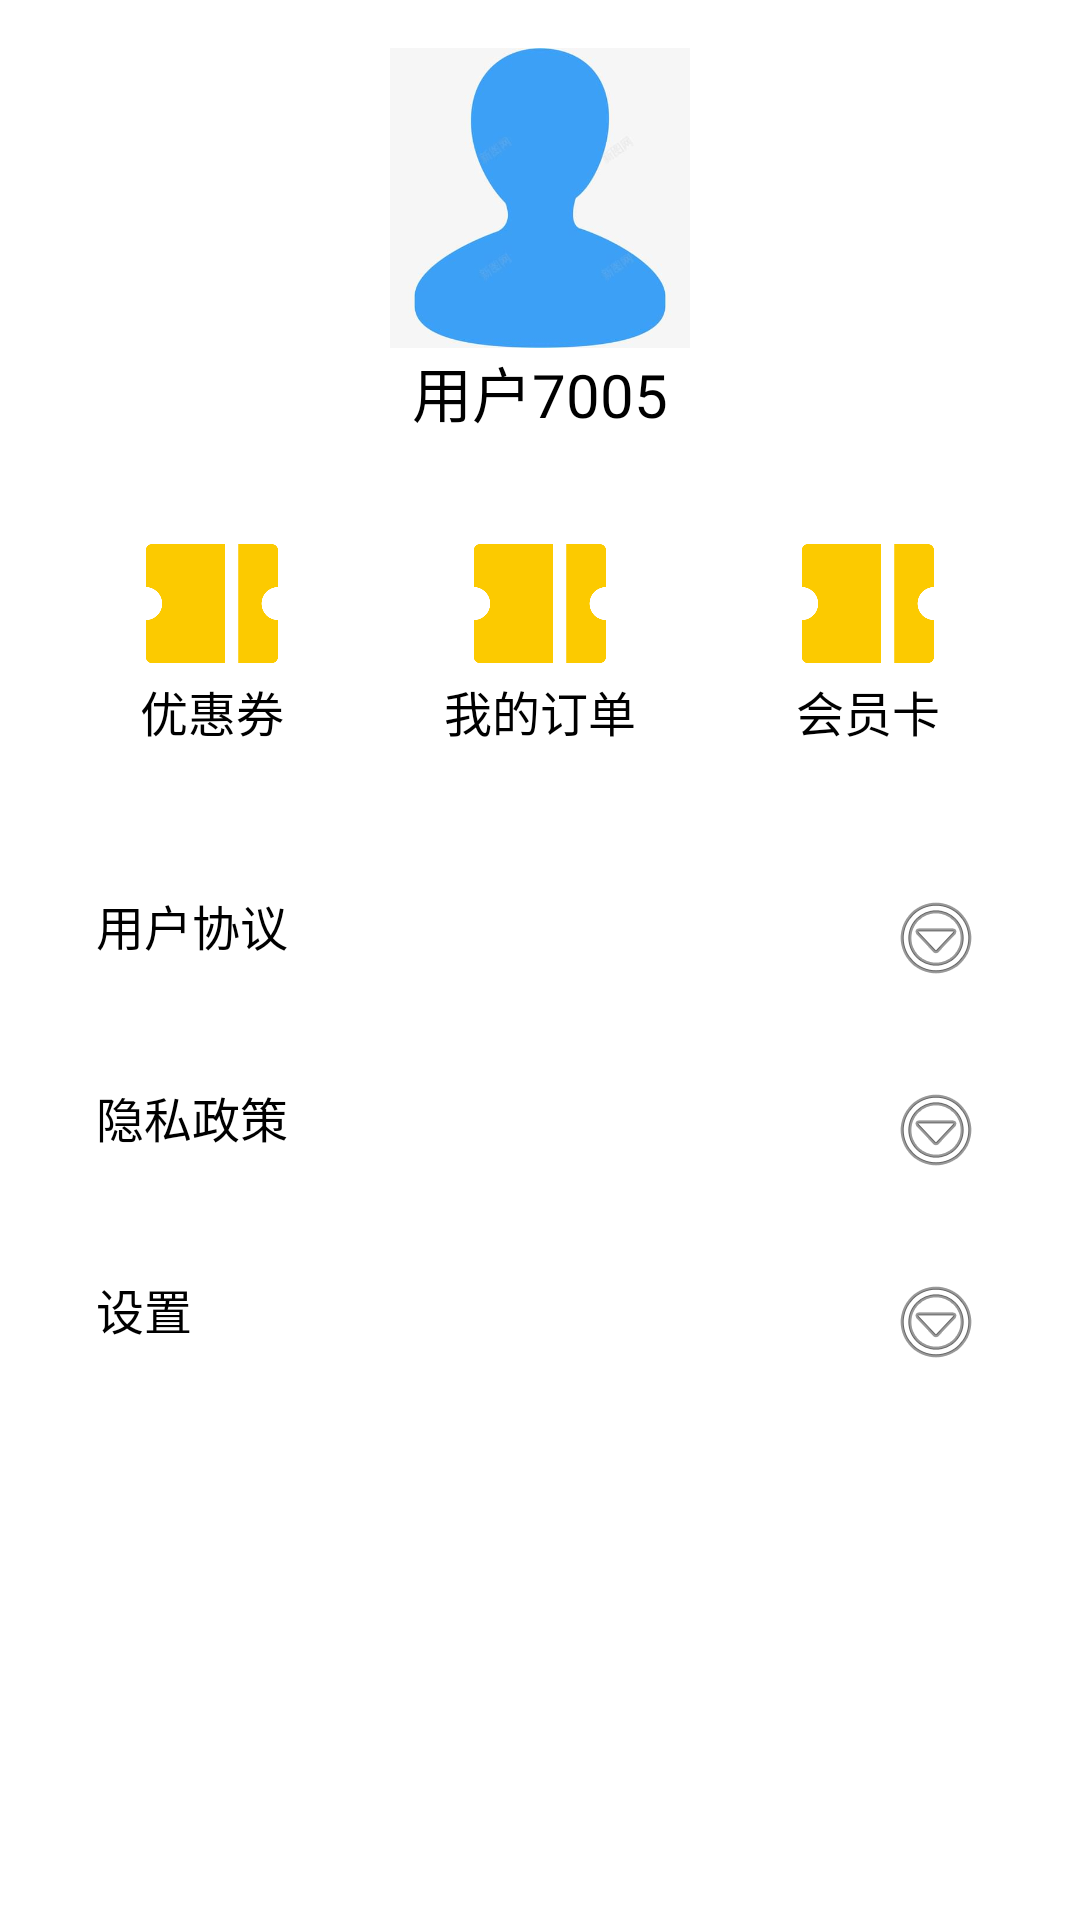

Named icons in this screenshot (1080px×1920px) and their bounding boxes, BBox(x1, y1, x2, y2):
ticket: BBox(146, 544, 278, 663), BBox(474, 544, 606, 663), BBox(802, 544, 934, 663)
